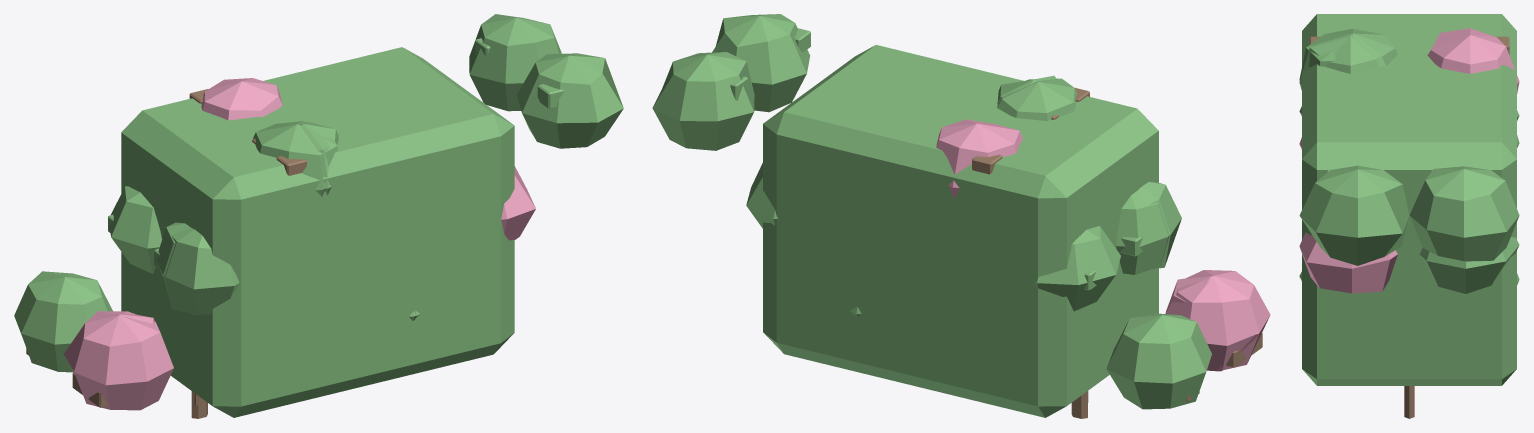
The model's file is b08_privet_flowering_hedge.glb.
3 views of the same model, side by side, from view 1: azimuth 30°, elevation 25°; view 2: azimuth 150°, elevation 25°; view 3: azimuth 270°, elevation 25° (orthographic).
Parts seen in each view (by area): view 1: b08_privet_flowering_hedge; view 2: b08_privet_flowering_hedge; view 3: b08_privet_flowering_hedge.
Boxes of the visible parts, x1,y1,x2,y2 form: b08_privet_flowering_hedge: (14,14,623,418); b08_privet_flowering_hedge: (652,14,1270,418); b08_privet_flowering_hedge: (1299,14,1519,418).
Size of the model in its own units: 3.02 by 1.57 by 1.05.
